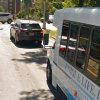Bus: (47, 3, 100, 99)
